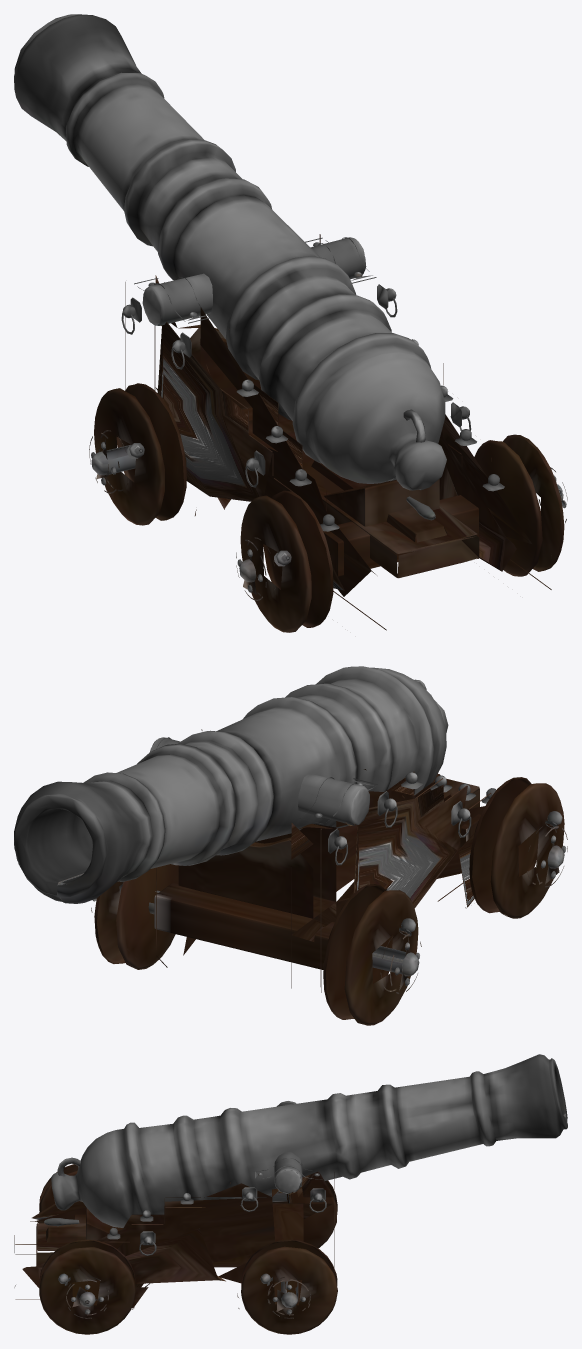
The model's file is cano.glb.
The picture shows the model from 3 angles, top to bottom: view 1: azimuth 30°, elevation 25°; view 2: azimuth 150°, elevation 25°; view 3: azimuth 270°, elevation 25°; orthographic projection. The views are drawn at different scales.
Parts seen in each view (by area): view 1: Cannon, Base, Wheel2, Wheel3, Wheel, Pegs, Angler, BaseRearSupp, Axel; view 2: Cannon, Base, Wheel2, Wheel3, BaseFrontSupp, Wheel1, Pegs, Axel; view 3: Cannon, Base, Wheel, Wheel1, Wheel3, Pegs, Angler, Wheel2.
Boxes of the visible parts, x1=… form: Cannon: x1=14, y1=14, x2=446, y2=490; Base: x1=125, y1=234, x2=551, y2=630; Wheel2: x1=236, y1=490, x2=333, y2=632; Wheel3: x1=89, y1=383, x2=186, y2=525; Wheel: x1=474, y1=434, x2=567, y2=576; Pegs: x1=142, y1=237, x2=366, y2=325; Angler: x1=324, y1=479, x2=439, y2=526; BaseRearSupp: x1=323, y1=495, x2=478, y2=576; Axel: x1=91, y1=444, x2=135, y2=475; Cannon: x1=14, y1=666, x2=448, y2=903; Base: x1=127, y1=729, x2=491, y2=992; Wheel2: x1=469, y1=777, x2=567, y2=918; Wheel3: x1=323, y1=884, x2=421, y2=1025; BaseFrontSupp: x1=154, y1=883, x2=334, y2=969; Wheel1: x1=91, y1=864, x2=178, y2=969; Pegs: x1=149, y1=737, x2=369, y2=825; Axel: x1=119, y1=884, x2=419, y2=976; Cannon: x1=51, y1=1054, x2=567, y2=1227; Base: x1=14, y1=1171, x2=334, y2=1309; Wheel: x1=39, y1=1239, x2=135, y2=1334; Wheel1: x1=241, y1=1239, x2=337, y2=1334; Wheel3: x1=291, y1=1180, x2=337, y2=1248; Pegs: x1=274, y1=1101, x2=302, y2=1193; Angler: x1=86, y1=1207, x2=122, y2=1240; Wheel2: x1=39, y1=1164, x2=78, y2=1212.
Size of the model in its own units: 344 by 346 by 741.
Materials: 1 (1 with a texture image).
